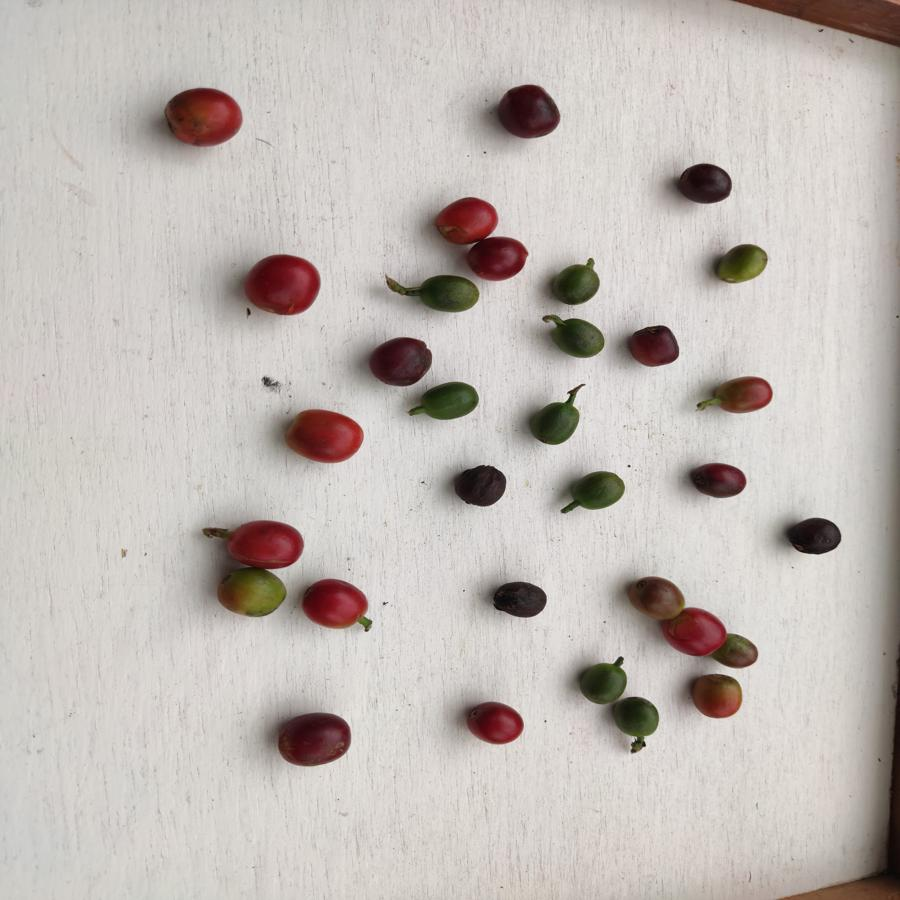Inmaduro: (414, 274, 483, 315), (571, 468, 627, 518), (530, 397, 581, 447), (418, 381, 480, 421), (549, 316, 604, 361), (611, 694, 661, 742), (577, 662, 629, 705), (548, 265, 601, 305)
Maduro: (242, 251, 322, 320), (283, 405, 365, 468), (160, 87, 245, 146), (300, 574, 373, 635), (223, 519, 304, 568), (660, 608, 726, 659), (464, 701, 526, 748), (437, 194, 499, 234)
Pinton: (215, 568, 288, 616), (686, 667, 747, 722), (712, 244, 772, 296), (630, 572, 686, 622), (714, 371, 774, 415), (722, 631, 760, 673)
Sobremaduro: (276, 711, 355, 766), (499, 82, 561, 141), (462, 233, 527, 284), (366, 337, 431, 387), (625, 324, 681, 372), (786, 515, 846, 558), (677, 162, 736, 204), (492, 578, 549, 620), (453, 464, 508, 507), (690, 461, 748, 499)
